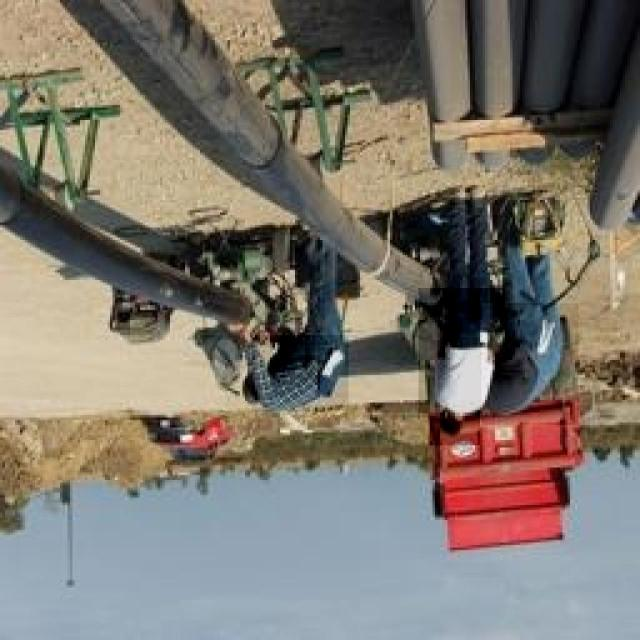Helmet: (482, 303, 578, 425), (419, 288, 505, 413), (252, 335, 348, 412), (428, 396, 480, 446), (225, 364, 263, 418)
